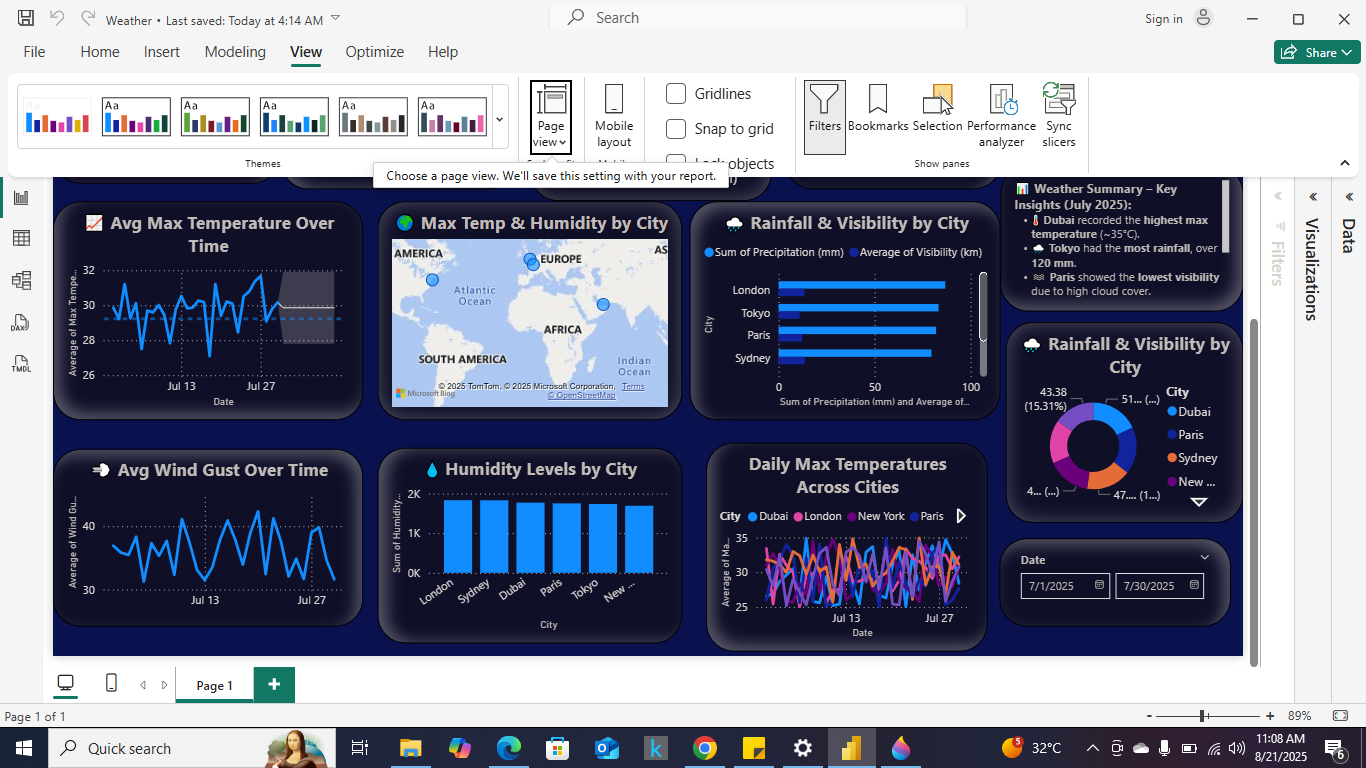

Layout of this report page (visuals, bound fields, positions):
{"tool":"powerbi","page":{"name":"Page 1","canvas":[1280,720],"ordinal":0},"visuals":[{"type":"map","title":"🌍 Max Temp & Humidity by City","fields":{"Category":["Forecast_Weather.City"],"Size":["Forecast_Weather.Max Temperature (°C)"]},"box":[349.5,230.6,327.8,236],"z":0},{"type":"slicer","fields":{"Values":["Forecast_Weather.Date"]},"box":[1017.7,592.6,248.6,95.5],"z":1000},{"type":"lineChart","title":"Daily Max Temperatures Across Cities","fields":{"Category":["Forecast_Weather.Date"],"Series":["Forecast_Weather.City"],"Y":["Forecast_Weather.Max Temperature (°C)"]},"box":[702.5,490,302.6,225.2],"z":2000},{"type":"clusteredColumnChart","title":"💧 Humidity Levels by City\t","fields":{"Category":["Forecast_Weather.City"],"Y":["Forecast_Weather.Humidity (%)"]},"box":[349.5,495.4,327.8,210.8],"z":3000},{"type":"donutChart","title":"🌧️ Rainfall & Visibility by City","fields":{"Y":["Forecast_Weather.Cloud Cover (%)"],"Category":["Forecast_Weather.City"]},"box":[1024.9,360.3,255.8,216.2],"z":4000},{"type":"gauge","fields":{"Y":["Forecast_Weather.Wind Speed (km/h)"]},"box":[1036.4,52,232.3,148.3],"z":5000},{"type":"card","title":"🌡️ Max Temperature ","fields":{"Values":["Forecast_Weather.Max Temperature (°C)"]},"box":[0,61.1,244.6,149.8],"z":6000},{"type":"lineChart","title":"📈 Avg Max Temperature Over Time","fields":{"Category":["Forecast_Weather.Date"],"Y":["Forecast_Weather.Max Temperature (°C)"]},"box":[0,230.8,333.2,235.4],"z":7000},{"type":"clusteredBarChart","title":"🌧️ Rainfall & Visibility by City","fields":{"Category":["Forecast_Weather.City"],"Y":["Forecast_Weather.Precipitation (mm)","Forecast_Weather.Visibility (km)"]},"box":[684.5,230.6,335,236],"z":8000},{"type":"lineChart","title":"💨 Avg Wind Gust Over Time\t","fields":{"Category":["Forecast_Weather.Date"],"Y":["Forecast_Weather.Wind Gust (km/h)"]},"box":[0,496.8,333.2,191.1],"z":9000},{"type":"card","title":"💨 Average Wind Speed","fields":{"Values":["Forecast_Weather.Wind Speed (km/h)"]},"box":[244.6,52,250.7,166.6],"z":10000},{"type":"card","title":"🌧️ Total Precipitation (mm)","fields":{"Values":["Forecast_Weather.Precipitation (mm)"]},"box":[513.6,52,259.9,178.8],"z":11000},{"type":"card","title":"📅 Days in Forecast\t","fields":{"Values":["Forecast_Weather.Date"]},"box":[787.2,52,232.3,166.6],"z":12000},{"type":"textbox","box":[275.6,0,762,43.2],"z":13000},{"type":"textbox","box":[1019.5,192.7,261.2,156.7],"z":14000}]}

Visuals, with their boxes on the page's 1280x720 design canvas (x1, y1, x2, y2). These are canvas units, not pixel positions in the 1366x768 screenshot, which may show the page scaled, cropped or inside an application window:
"🌍 Max Temp & Humidity by City" map: [350,231,677,467]
slicer - Forecast_Weather.Date: [1018,593,1266,688]
"Daily Max Temperatures Across Cities" lineChart: [702,490,1005,715]
"💧 Humidity Levels by City	" clusteredColumnChart: [350,495,677,706]
"🌧️ Rainfall & Visibility by City" donutChart: [1025,360,1281,576]
gauge - Forecast_Weather.Wind Speed (km/h): [1036,52,1269,200]
"🌡️ Max Temperature " card: [0,61,245,211]
"📈 Avg Max Temperature Over Time" lineChart: [0,231,333,466]
"🌧️ Rainfall & Visibility by City" clusteredBarChart: [684,231,1020,467]
"💨 Avg Wind Gust Over Time	" lineChart: [0,497,333,688]
"💨 Average Wind Speed" card: [245,52,495,219]
"🌧️ Total Precipitation (mm)" card: [514,52,774,231]
"📅 Days in Forecast	" card: [787,52,1020,219]
textbox: [276,0,1038,43]
textbox: [1020,193,1281,349]
